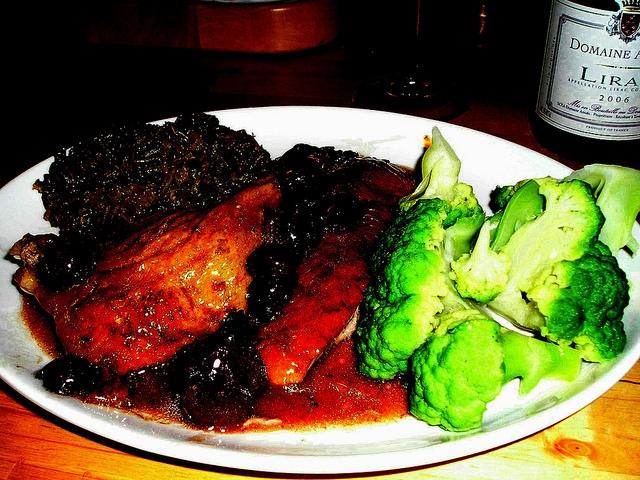broccoli: (353, 196, 489, 381), (408, 319, 582, 432), (486, 179, 612, 333), (528, 253, 632, 363), (398, 126, 484, 226), (560, 164, 640, 258), (489, 180, 546, 255)
